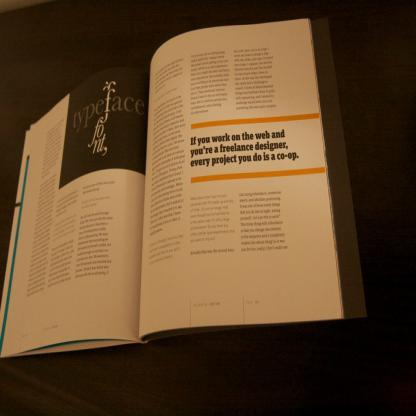book: (0, 15, 373, 354)
